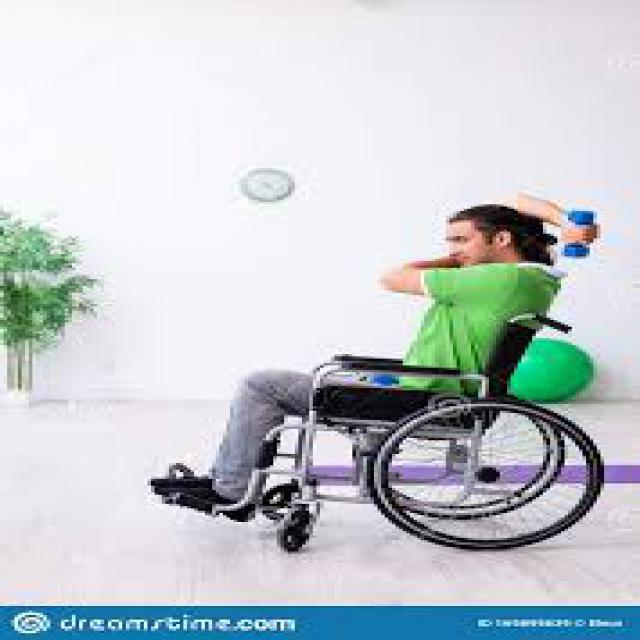wheelchairs: (151, 306, 611, 547)
